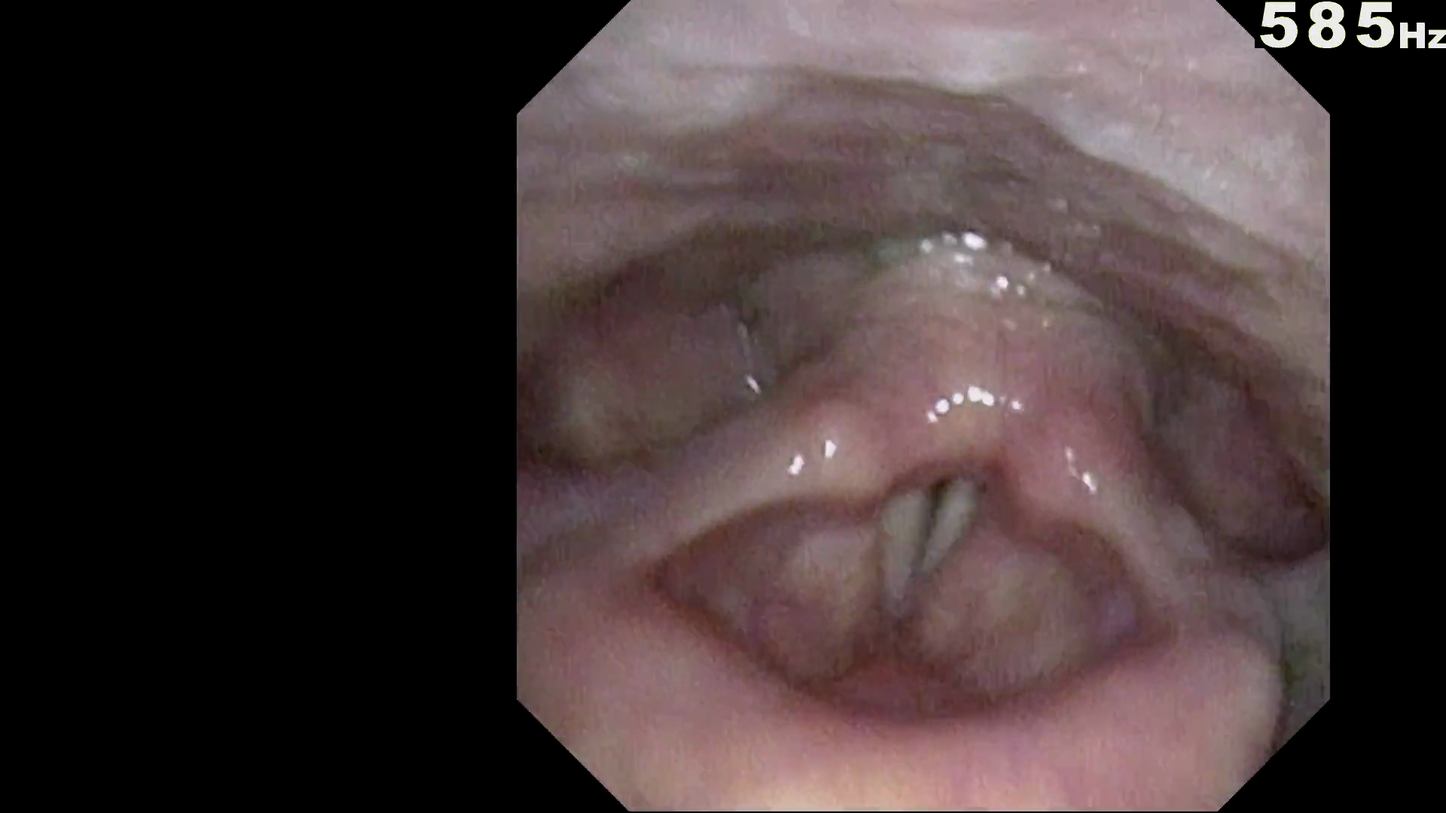epiglottis: (619, 534, 1236, 788)
trachea: (847, 479, 956, 602)
